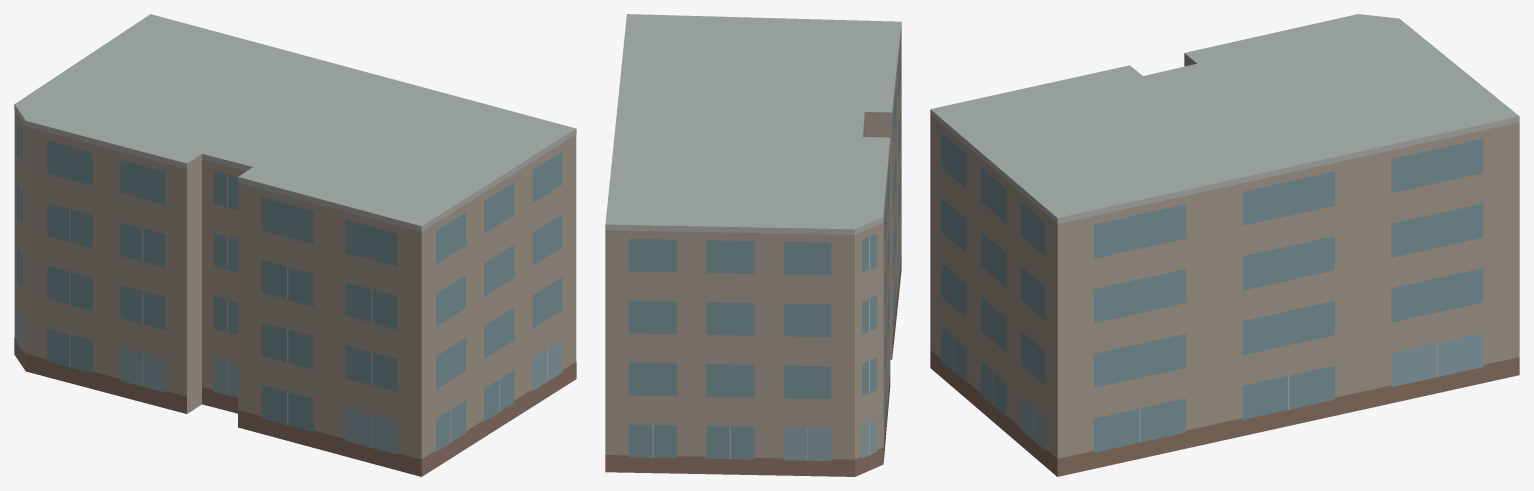
The model's file is survey-upis-32778811.glb.
The picture shows the model from 3 angles, left to right: view 1: azimuth 30°, elevation 25°; view 2: azimuth 150°, elevation 25°; view 3: azimuth 270°, elevation 25°; orthographic projection. The views are drawn at different scales.
Parts seen in each view (by area): view 1: survey-upis-32778811.tmp; view 2: survey-upis-32778811.tmp; view 3: survey-upis-32778811.tmp.
Part boxes in pixels (bbox=[...]): survey-upis-32778811.tmp: bbox=[14, 14, 576, 476]; survey-upis-32778811.tmp: bbox=[605, 14, 901, 476]; survey-upis-32778811.tmp: bbox=[930, 14, 1519, 476].
Size of the model in its own units: 18.12 by 10.7 by 22.1.
